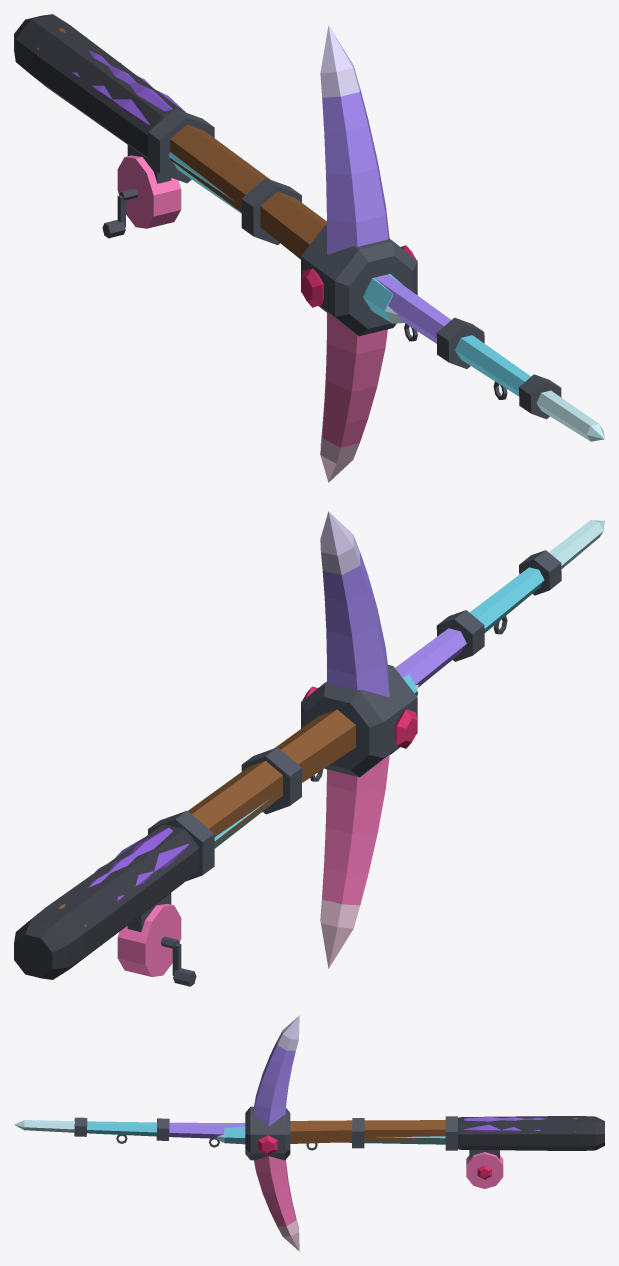
File: w3_tools.fbx
The picture shows the model from 3 angles, top to bottom: view 1: azimuth 30°, elevation 25°; view 2: azimuth 150°, elevation 25°; view 3: azimuth 270°, elevation 25°; orthographic projection. The views are drawn at different scales.
Visible parts, largest first — view 1: CrystalRod.Grip, CrystalPickaxe.CrystalPurple, CrystalRod.Iron, CrystalPickaxe.Handle, CrystalPickaxe.Socket, CrystalPickaxe.CrystalPink, CrystalRod.Reel, CrystalRod.Rod, CrystalRod.RodPurple, CrystalPickaxe.CrystalPurpleTip, CrystalRod.RodTip, CrystalPickaxe.Grip (+3 smaller); view 2: CrystalRod.Grip, CrystalPickaxe.Handle, CrystalPickaxe.CrystalPink, CrystalRod.Iron, CrystalPickaxe.CrystalPurple, CrystalPickaxe.Socket, CrystalRod.Reel, CrystalRod.Rod, CrystalRod.RodPurple, CrystalPickaxe.CrystalPurpleTip, CrystalPickaxe.CrystalPinkTip, CrystalPickaxe.Grip (+2 smaller); view 3: CrystalRod.Grip, CrystalPickaxe.Handle, CrystalPickaxe.CrystalPurple, CrystalPickaxe.CrystalPink, CrystalRod.Iron, CrystalPickaxe.Socket, CrystalRod.Rod, CrystalRod.Reel, CrystalRod.RodPurple, CrystalRod.RodTip, CrystalPickaxe.CrystalPurpleTip, CrystalPickaxe.Grip (+2 smaller).
Part boxes in pixels (left/top/right/bottom): CrystalRod.Grip: left=14, top=14, right=184, bottom=158; CrystalPickaxe.CrystalPurple: left=322, top=89, right=389, bottom=254; CrystalRod.Iron: left=102, top=109, right=561, bottom=419; CrystalPickaxe.Handle: left=36, top=27, right=326, bottom=259; CrystalPickaxe.Socket: left=301, top=224, right=417, bottom=336; CrystalPickaxe.CrystalPink: left=322, top=312, right=387, bottom=447; CrystalRod.Reel: left=117, top=155, right=181, bottom=228; CrystalRod.Rod: left=168, top=152, right=530, bottom=396; CrystalRod.RodPurple: left=374, top=274, right=450, bottom=343; CrystalPickaxe.CrystalPurpleTip: left=320, top=25, right=360, bottom=97; CrystalRod.RodTip: left=536, top=390, right=604, bottom=441; CrystalPickaxe.Grip: left=72, top=50, right=186, bottom=125; CrystalRod.Grip: left=14, top=824, right=199, bottom=979; CrystalPickaxe.Handle: left=37, top=709, right=355, bottom=926; CrystalPickaxe.CrystalPink: left=322, top=754, right=389, bottom=905; CrystalRod.Iron: left=127, top=550, right=561, bottom=986; CrystalPickaxe.CrystalPurple: left=322, top=552, right=389, bottom=697; CrystalPickaxe.Socket: left=301, top=665, right=417, bottom=777; CrystalRod.Reel: left=117, top=903, right=181, bottom=976; CrystalRod.Rod: left=214, top=567, right=544, bottom=848; CrystalRod.RodPurple: left=395, top=628, right=466, bottom=687; CrystalPickaxe.CrystalPurpleTip: left=320, top=511, right=360, bottom=575; CrystalPickaxe.CrystalPinkTip: left=320, top=896, right=359, bottom=968; CrystalPickaxe.Grip: left=88, top=827, right=189, bottom=900; CrystalRod.Grip: left=458, top=1116, right=604, bottom=1150; CrystalPickaxe.Handle: left=290, top=1118, right=577, bottom=1143; CrystalPickaxe.CrystalPurple: left=253, top=1040, right=295, bottom=1126; CrystalPickaxe.CrystalPink: left=254, top=1156, right=295, bottom=1226; CrystalRod.Iron: left=74, top=1116, right=499, bottom=1159; CrystalPickaxe.Socket: left=245, top=1106, right=290, bottom=1160; CrystalRod.Rod: left=87, top=1121, right=445, bottom=1144; CrystalRod.Reel: left=466, top=1152, right=503, bottom=1188; CrystalRod.RodPurple: left=169, top=1122, right=245, bottom=1138; CrystalRod.RodTip: left=14, top=1120, right=74, bottom=1132; CrystalPickaxe.CrystalPurpleTip: left=277, top=1015, right=299, bottom=1050; CrystalPickaxe.Grip: left=464, top=1117, right=546, bottom=1131.
Bounding box in the file's own units: 0.611 × 2.54 × 5.75.
